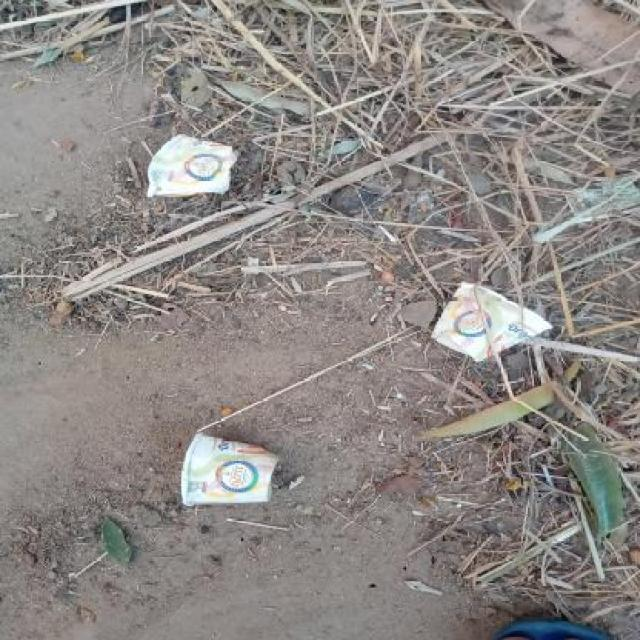garbage: (349, 214, 584, 422), (143, 403, 354, 544), (129, 95, 269, 230), (477, 594, 640, 640)
